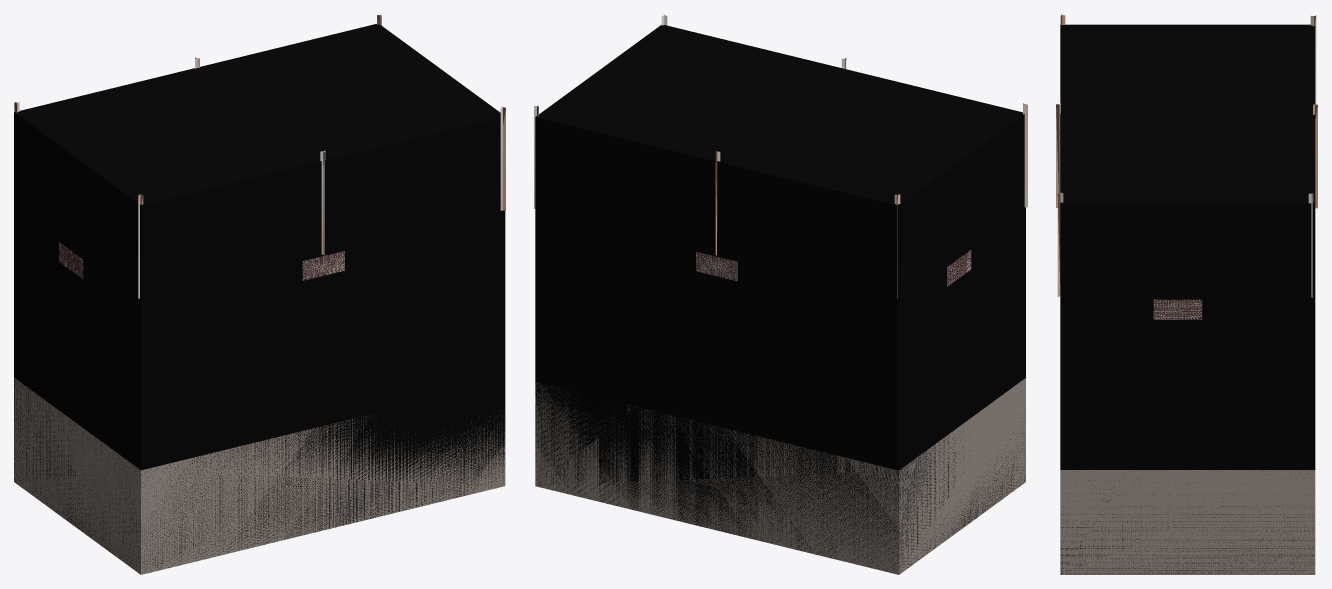
The model's file is transformer_ground.dae.
3 views of the same model, side by side, from view 1: azimuth 30°, elevation 25°; view 2: azimuth 150°, elevation 25°; view 3: azimuth 270°, elevation 25° (orthographic).
Visible parts, largest first — view 1: Colmesh-1, transformer_ground_a040, transformer_ground_a080, transformer_ground_a150; view 2: Colmesh-1, transformer_ground_a040, transformer_ground_a080, transformer_ground_a150; view 3: Colmesh-1, transformer_ground_a040, transformer_ground_a080, transformer_ground_a150.
Part boxes in pixels (box(x1,y1,x2,y2)): Colmesh-1: box(14, 24, 505, 573); transformer_ground_a040: box(14, 378, 505, 574); transformer_ground_a080: box(14, 15, 505, 574); transformer_ground_a150: box(14, 14, 505, 298); Colmesh-1: box(535, 25, 1025, 573); transformer_ground_a040: box(535, 378, 1025, 574); transformer_ground_a080: box(535, 58, 1025, 574); transformer_ground_a150: box(534, 14, 1027, 298); Colmesh-1: box(1060, 24, 1315, 574); transformer_ground_a040: box(1060, 470, 1315, 574); transformer_ground_a080: box(1056, 15, 1317, 574); transformer_ground_a150: box(1056, 14, 1317, 319).
Bounding box in the file's own units: 4.05 × 2.48 × 3.98.
